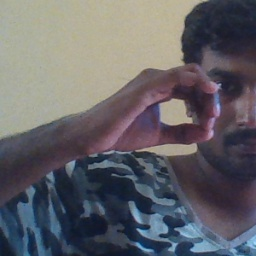O: (85, 58, 224, 161)
